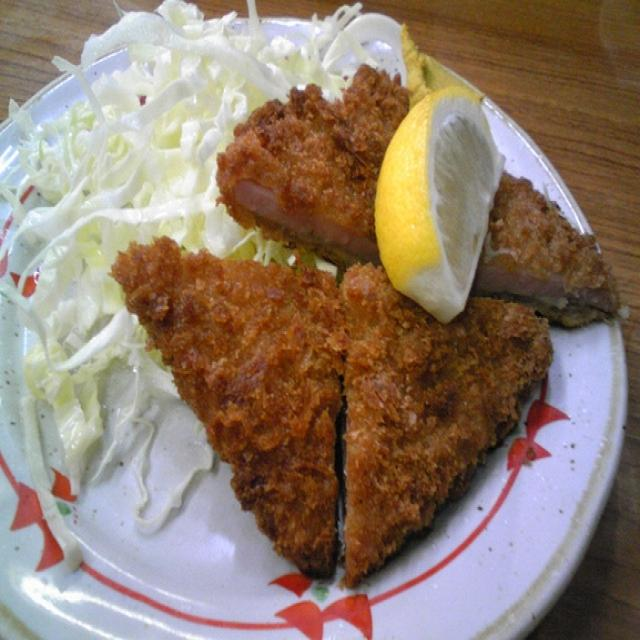炸货点心: (65, 31, 638, 608)
